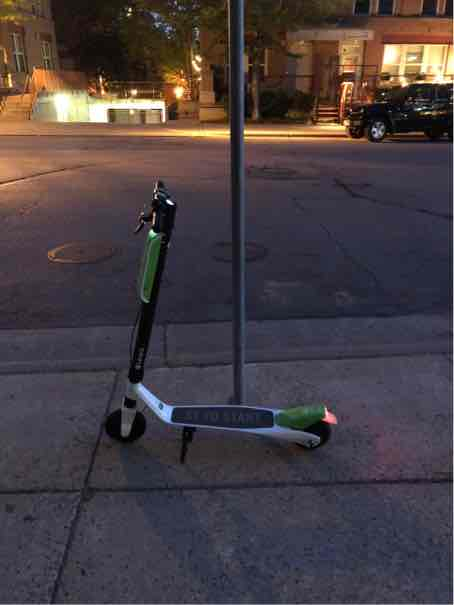scooter: (105, 155, 343, 470)
